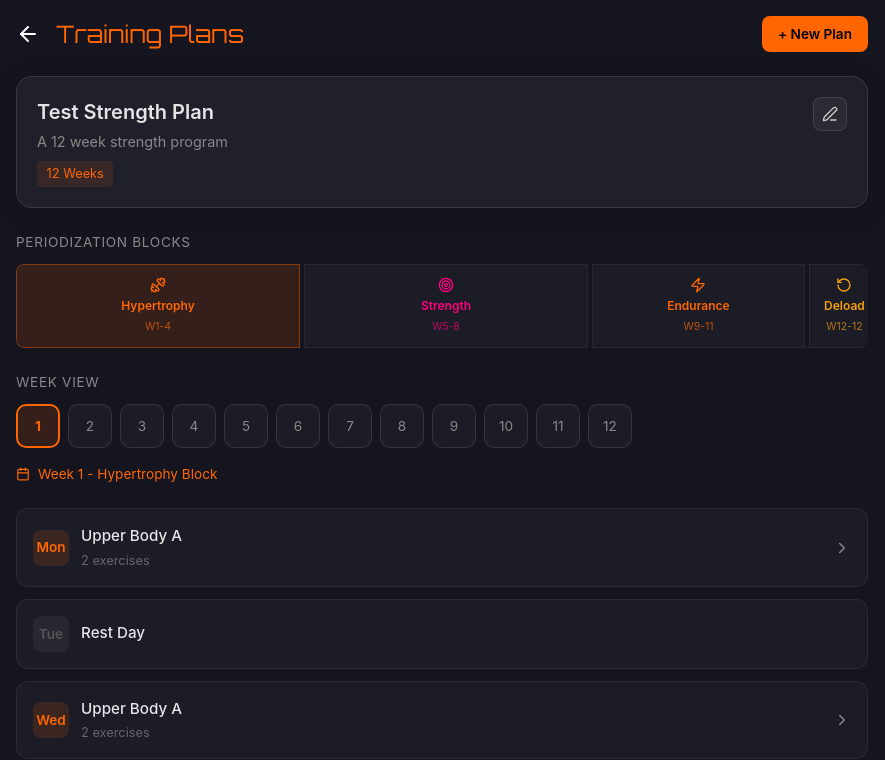
Test: PlansViewerPage › expands day to show exercises when clicked
Click on first day (Mon) to expand
Click the 1st text "Upper Body A": (132, 536) [81, 526, 182, 545]
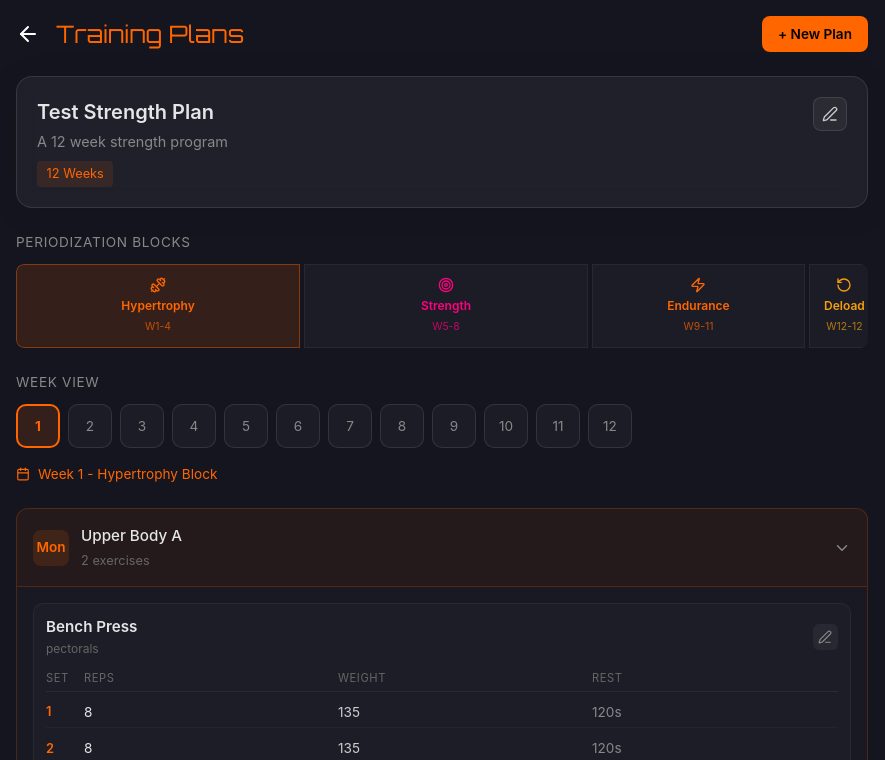
Expected: the text "Bench Press" is shown, [46, 617, 137, 636]
